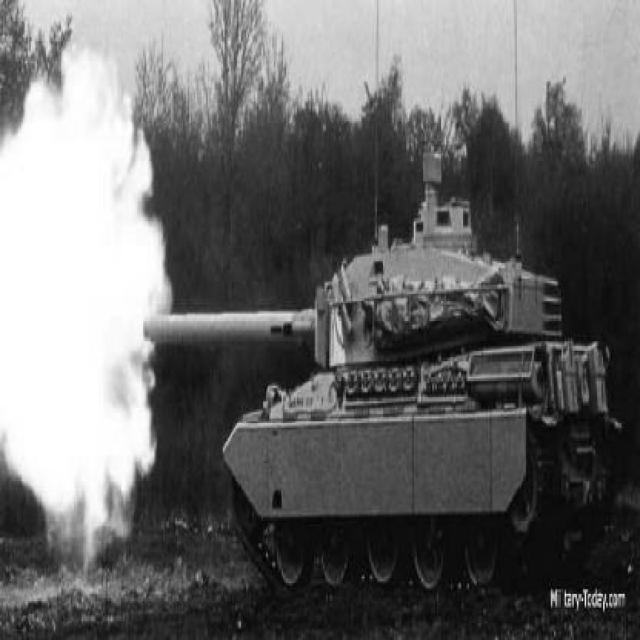Tank: (143, 136, 623, 604)
